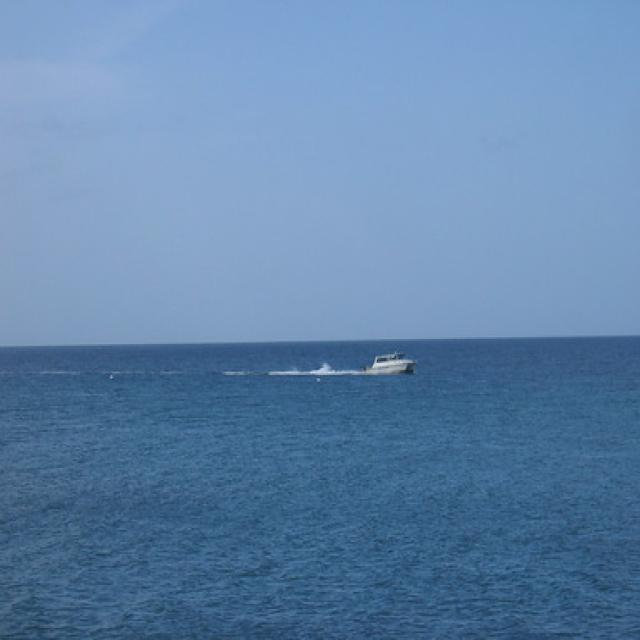houseboat: (359, 344, 421, 378)
